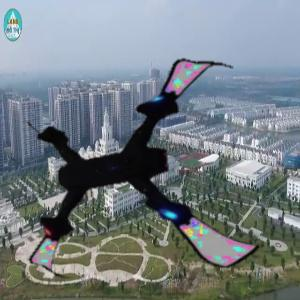drone: (23, 45, 263, 285)
